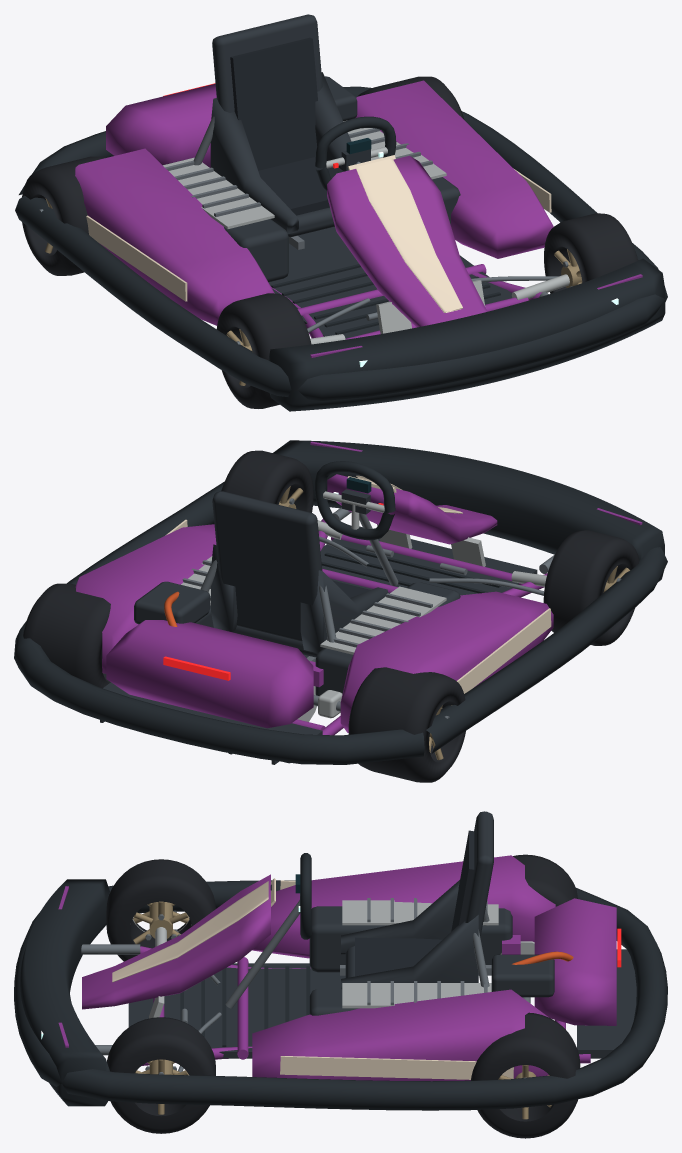
The model's file is vortex.glb.
3 views of the same model, one above another, from view 1: azimuth 30°, elevation 25°; view 2: azimuth 150°, elevation 25°; view 3: azimuth 270°, elevation 25° (orthographic).
Parts seen in each view (by area): view 1: paint, Moulded bumper polymer (×3), Satin composite, Slick vulcanised rubber (×4), Seat fabric, Livery ivory, Brushed alloy, Steel fasteners; view 2: Moulded bumper polymer (×3), paint, Satin composite (×2), Slick vulcanised rubber (×4), Brushed alloy (×2), Steel fasteners, Livery ivory, brake_light; view 3: paint, Moulded bumper polymer (×3), Satin composite (×2), Slick vulcanised rubber (×4), Livery ivory, Brushed alloy, Steel fasteners (×2), Seat fabric, Magnesium wheel centres (×2).
Boxes of the visible parts, x1,y1,x2,y2 form: paint: [75, 80, 553, 339]; Moulded bumper polymer (×3): [15, 86, 667, 411]; Satin composite: [167, 14, 512, 338]; Slick vulcanised rubber (×4): [22, 76, 638, 408]; Seat fabric: [230, 37, 343, 215]; Livery ivory: [86, 158, 551, 312]; Brushed alloy: [163, 120, 569, 344]; Steel fasteners: [165, 116, 558, 332]; Moulded bumper polymer (×3): [14, 440, 667, 764]; paint: [75, 474, 553, 735]; Satin composite (×2): [100, 491, 537, 764]; Slick vulcanised rubber (×4): [23, 450, 639, 782]; Brushed alloy (×2): [181, 491, 546, 721]; Steel fasteners: [182, 513, 544, 711]; Livery ivory: [165, 475, 551, 708]; brake_light: [163, 656, 230, 680]; paint: [82, 855, 616, 1081]; Moulded bumper polymer (×3): [14, 853, 667, 1110]; Satin composite (×2): [128, 811, 636, 1058]; Slick vulcanised rubber (×4): [106, 854, 580, 1138]; Livery ivory: [112, 880, 513, 1079]; Brushed alloy: [149, 900, 534, 1018]; Steel fasteners (×2): [81, 898, 530, 1072]; Seat fabric: [355, 830, 474, 976]; Magnesium wheel centres (×2): [133, 901, 189, 1114].
Size of the model in its own units: 2.17 by 1.01 by 2.8.
